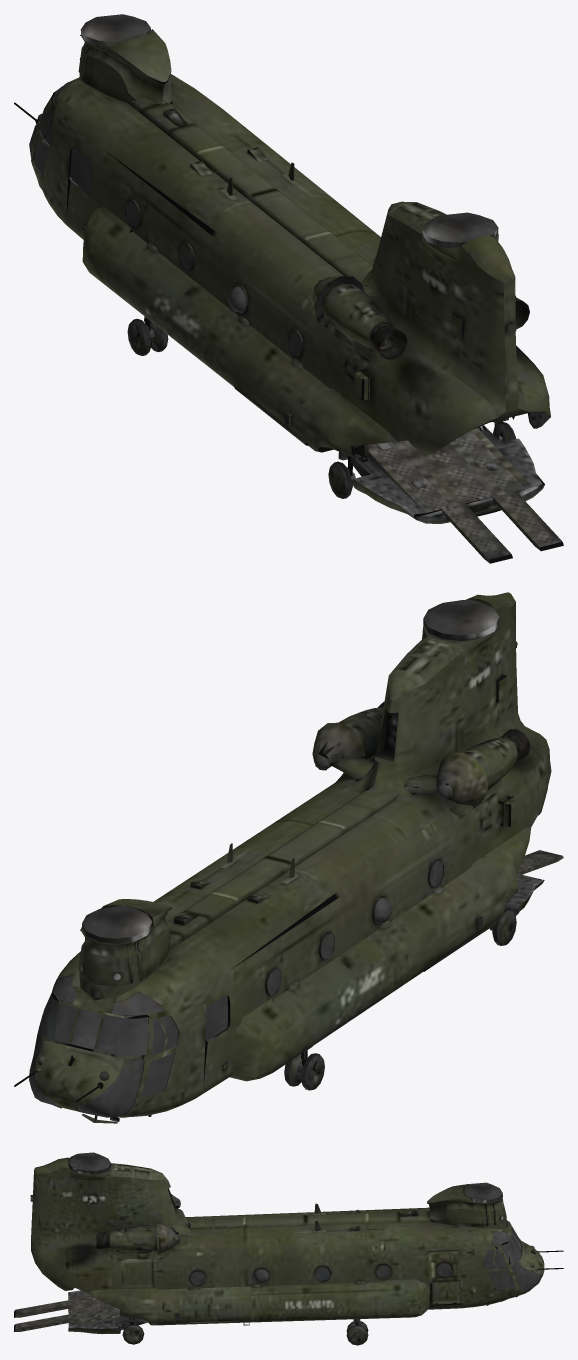
The model's file is heli_ch47.glb.
3 views of the same model, one above another, from view 1: azimuth 30°, elevation 25°; view 2: azimuth 150°, elevation 25°; view 3: azimuth 270°, elevation 25° (orthographic). The views are drawn at different scales.
Visible parts, largest first — view 1: heli_ch47; view 2: heli_ch47; view 3: heli_ch47.
Boxes of the visible parts, x1,y1,x2,y2 form: heli_ch47: [14, 14, 563, 563]; heli_ch47: [14, 592, 563, 1123]; heli_ch47: [14, 1152, 563, 1345].
Bounding box in the file's own units: 3.67 × 5.19 × 15.9.
Materials: 1 (1 with a texture image).
